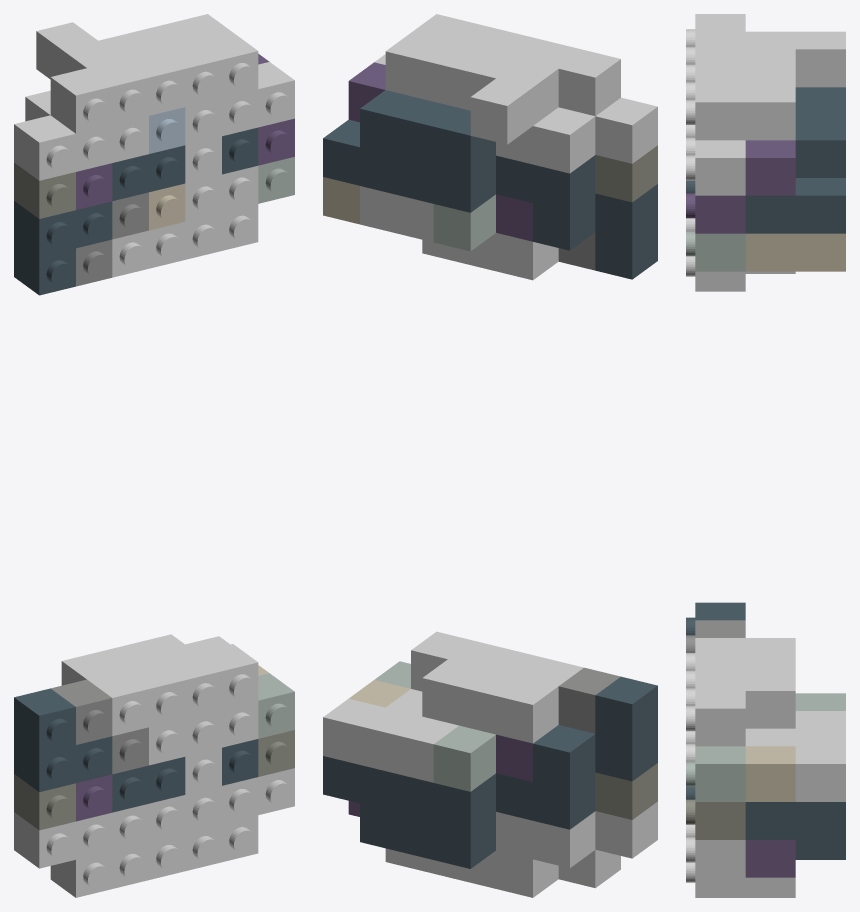
File: full.glb
The picture shows the model from 3 angles, left to right: view 1: azimuth 30°, elevation 25°; view 2: azimuth 150°, elevation 25°; view 3: azimuth 270°, elevation 25°; orthographic projection.
Visible parts, largest first — view 1: world; view 2: world; view 3: world.
Boxes of the visible parts, left/top/right/bottom form: world: left=14, top=14, right=294, bottom=897; world: left=323, top=14, right=657, bottom=897; world: left=686, top=14, right=845, bottom=897.
Bounding box in the file's own units: 56 × 168 × 30.6.
